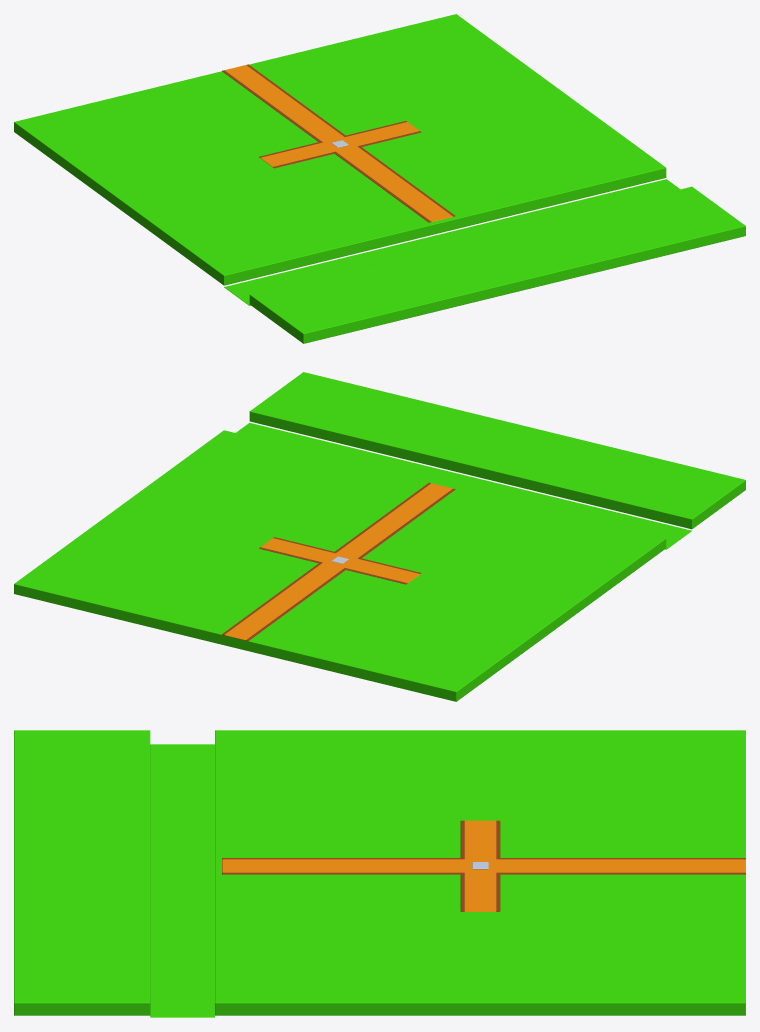
Rendered from Hub.fbx.
3 views of the same model, one above another, from view 1: azimuth 30°, elevation 25°; view 2: azimuth 150°, elevation 25°; view 3: azimuth 270°, elevation 25° (orthographic). The views are drawn at different scales.
Parts seen in each view (by area): view 1: HubGrass, FarBank, ChannelFloor, PathMain, PathCross, PathMainEdge, PathCrossEdge; view 2: HubGrass, FarBank, ChannelFloor, PathMain, PathCross, PathMainEdge, PathCrossEdge; view 3: HubGrass, FarBank, ChannelFloor, PathMain, PathCross, PathMainEdge, PathCrossEdge.
Part boxes in pixels (x1,y1,x2,y2): HubGrass: [14, 14, 666, 285]; FarBank: [249, 186, 745, 343]; ChannelFloor: [224, 179, 679, 305]; PathMain: [225, 65, 452, 221]; PathCross: [260, 122, 419, 166]; PathMainEdge: [222, 64, 455, 222]; PathCrossEdge: [259, 121, 421, 168]; HubGrass: [14, 430, 666, 701]; FarBank: [249, 372, 745, 529]; ChannelFloor: [236, 422, 691, 549]; PathMain: [225, 483, 452, 640]; PathCross: [261, 538, 419, 582]; PathMainEdge: [222, 482, 455, 641]; PathCrossEdge: [259, 537, 421, 584]; HubGrass: [215, 730, 745, 1015]; FarBank: [14, 730, 150, 1015]; ChannelFloor: [150, 744, 214, 1017]; PathMain: [222, 859, 745, 872]; PathCross: [464, 820, 496, 911]; PathMainEdge: [222, 858, 745, 874]; PathCrossEdge: [460, 820, 500, 911].
Size of the model in its own units: 18000 by 500 by 20400.
